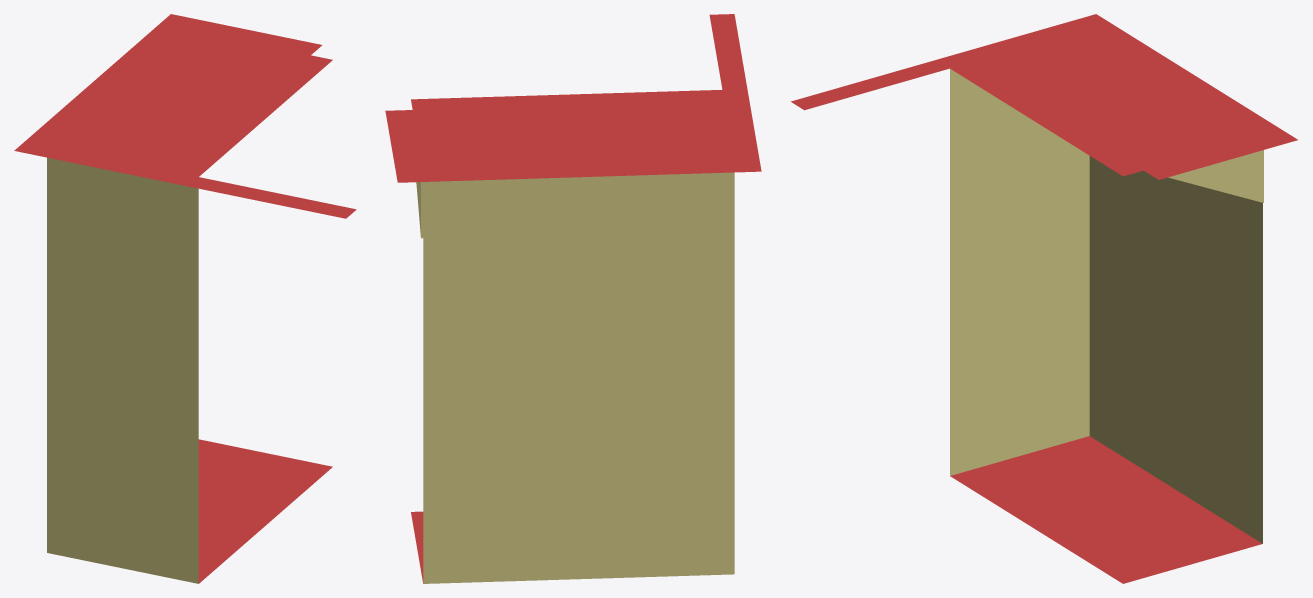
3 renders of one model, left to right at view 1: azimuth 30°, elevation 25°; view 2: azimuth 150°, elevation 25°; view 3: azimuth 270°, elevation 25°, orthographic.
Bounding box in the file's own units: 7.93 × 10.25 × 9.07.
